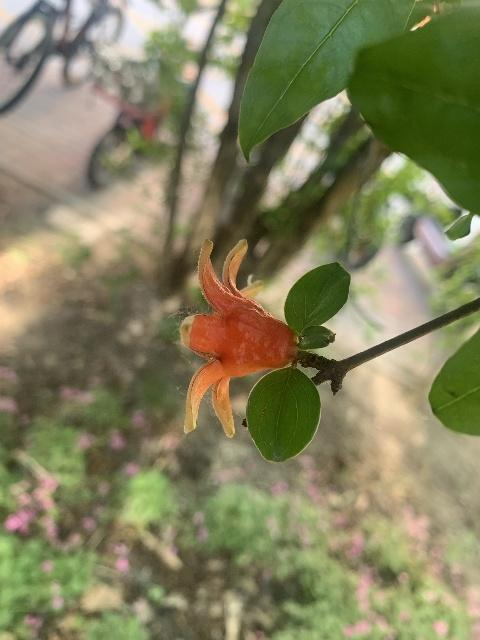flower: (182, 237, 297, 438)
